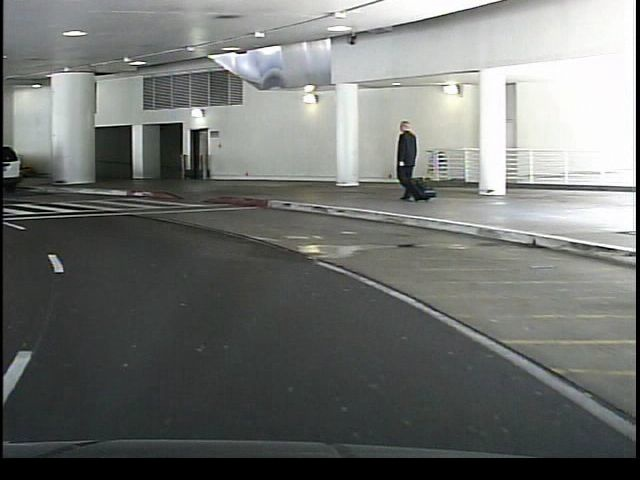person: (387, 120, 425, 202)
